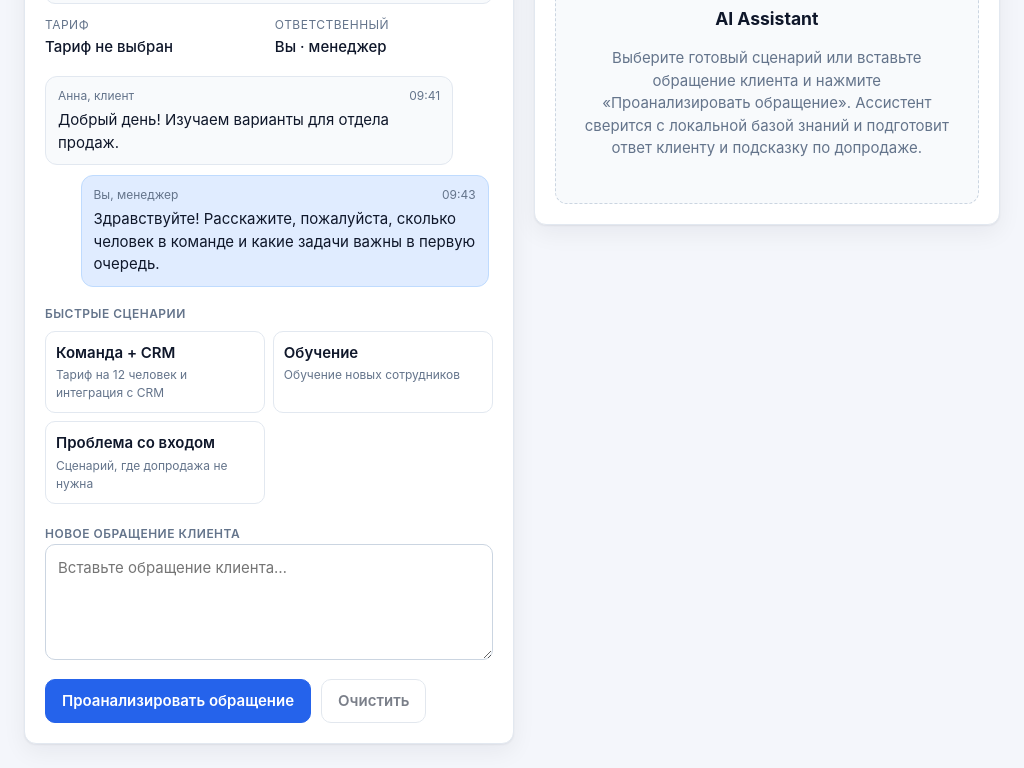
App › не отправляет пустое обращение и показывает подсказку
The image size is (1024, 768).
(page scrolled)
Click the button with test id "analyze-button". click: coordinates (178, 701)
box: [45, 678, 311, 723]
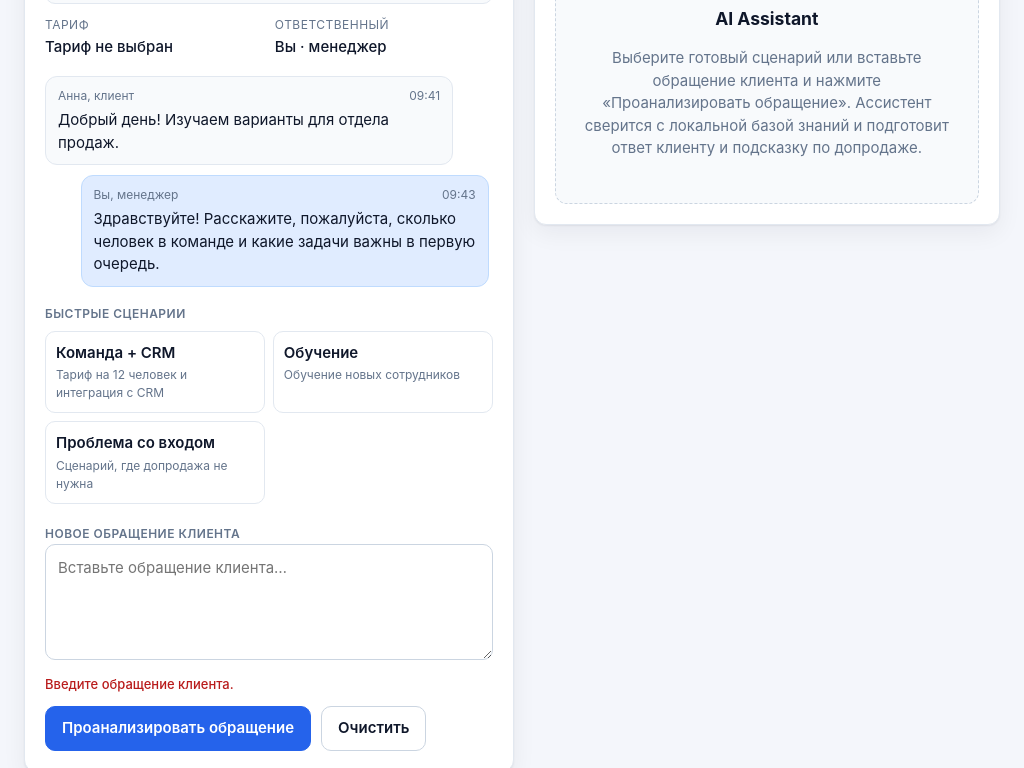
expect the message with test id "validation-error" shows "Введите обращение": met, box [45, 676, 234, 692]
